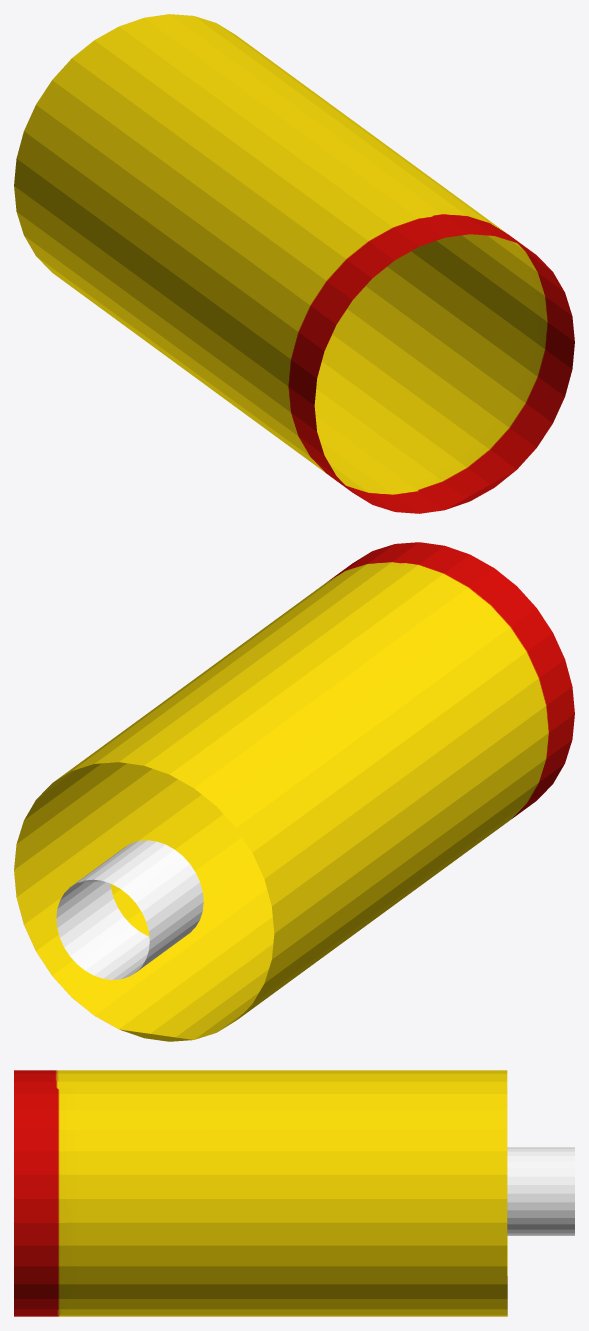
File: Obstacles.obj
The picture shows the model from 3 angles, top to bottom: view 1: azimuth 30°, elevation 25°; view 2: azimuth 150°, elevation 25°; view 3: azimuth 270°, elevation 25°; orthographic projection. The views are drawn at different scales.
Parts seen in each view (by area): view 1: 円柱; view 2: 円柱, 円柱.001; view 3: 円柱, 円柱.001.
Part boxes in pixels (x1,y1,x2,y2): 円柱: [14, 14, 574, 513]; 円柱: [14, 542, 574, 1041]; 円柱.001: [56, 840, 203, 979]; 円柱: [14, 1070, 507, 1316]; 円柱.001: [507, 1147, 574, 1235].
Size of the model in its own units: 2 by 2 by 4.55.
Materials: 2 (2 with a texture image).
